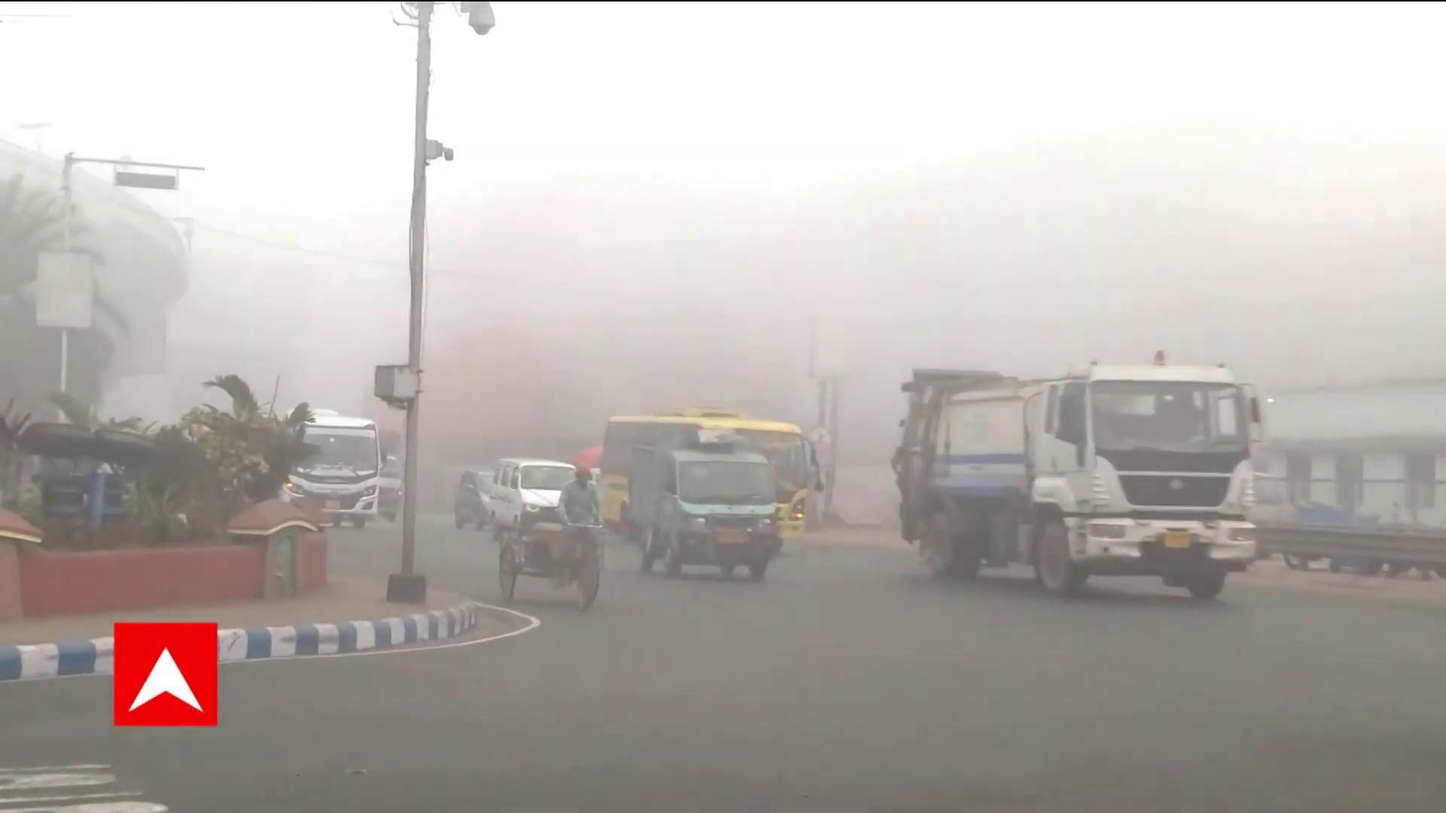Car: (488, 452, 581, 544)
Truck: (888, 349, 1271, 605), (623, 438, 781, 580)
